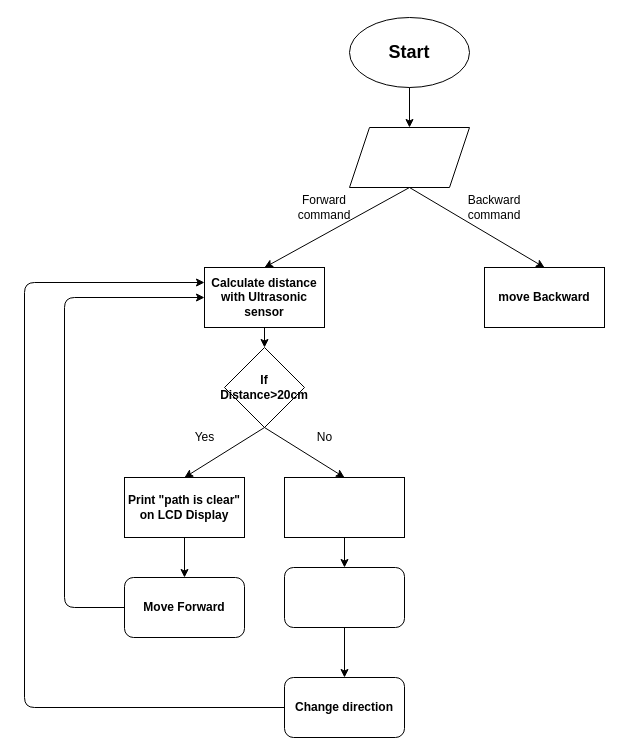
The diagram is 622 pixels wide and 755 high, and some of its shapes have lost their labels. Here are the shapes that lost their labels. From the top down, the centre of each, then its label:
point (409, 157): Give command through ir remote
point (344, 507): Print "Obstacle detected" on LCD Display
point (344, 597): Delay for 1 sec
